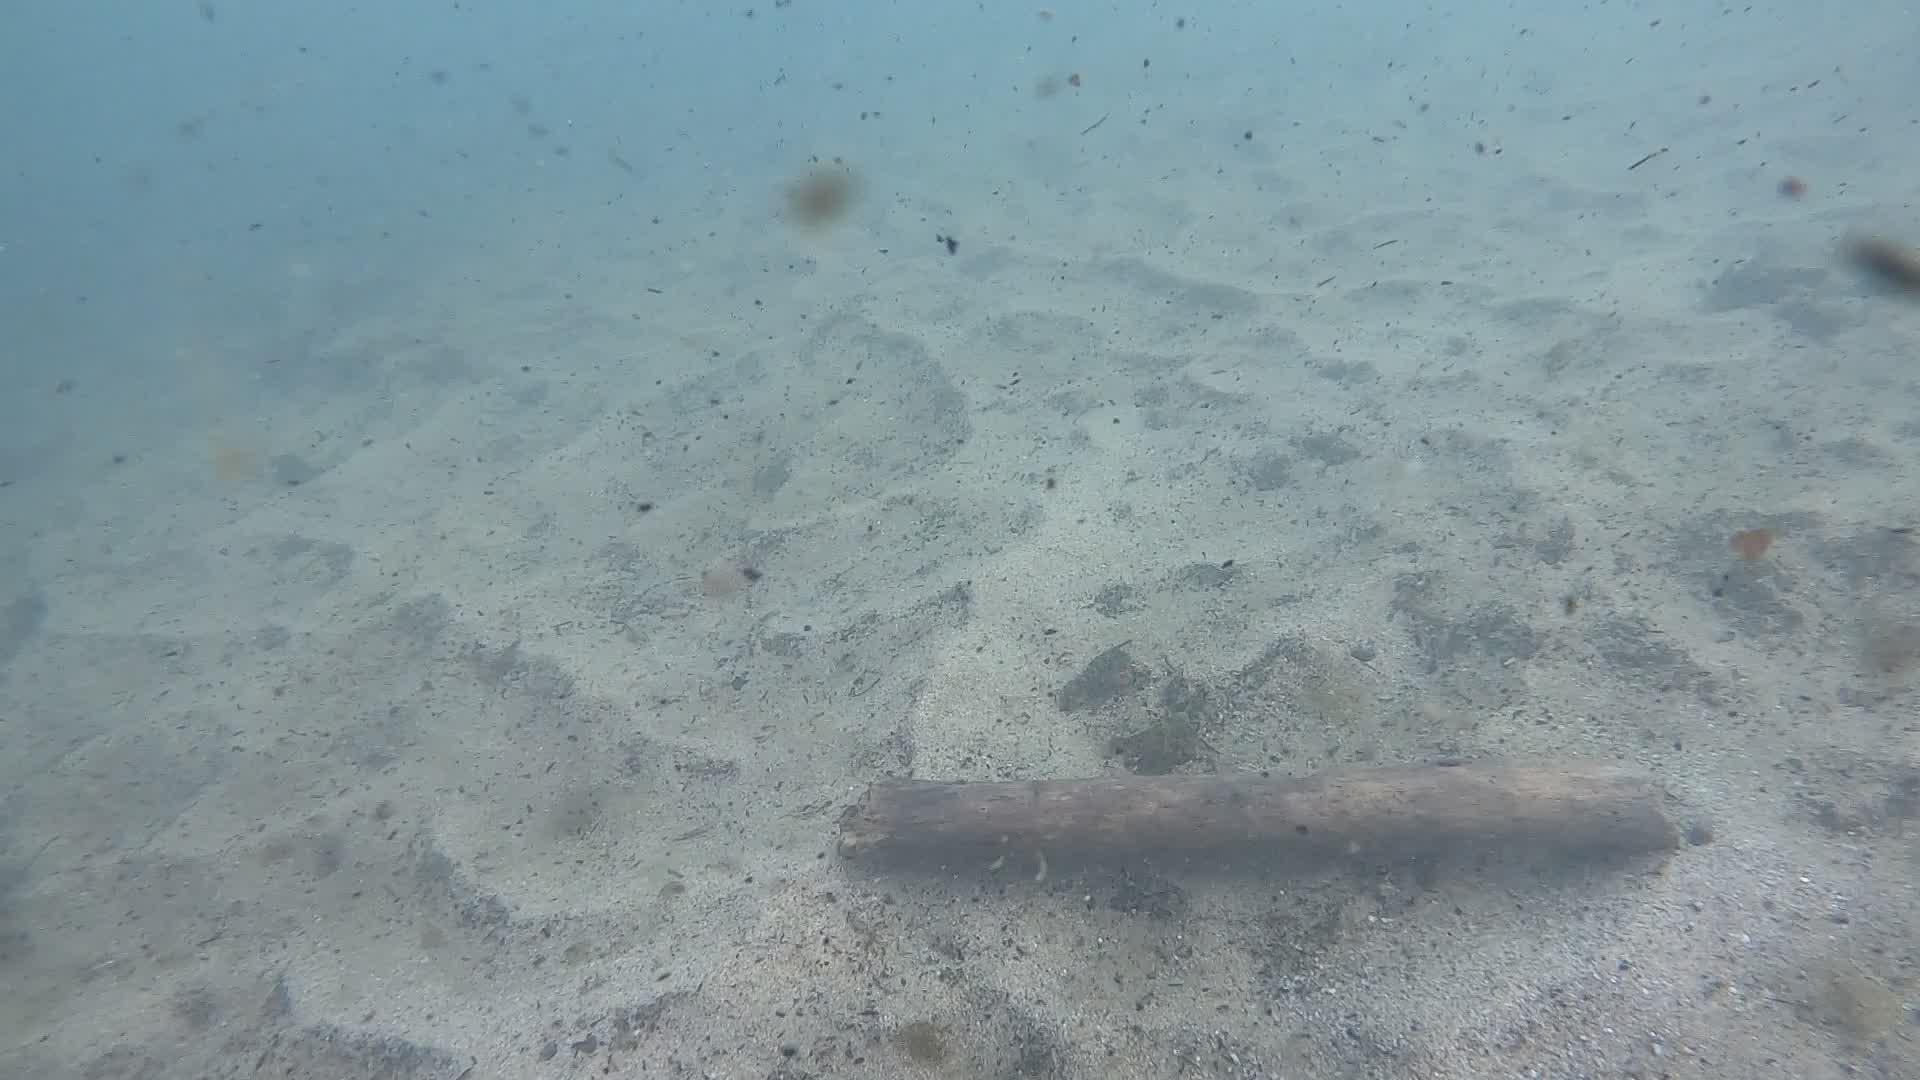wood: (831, 756, 1677, 866)
